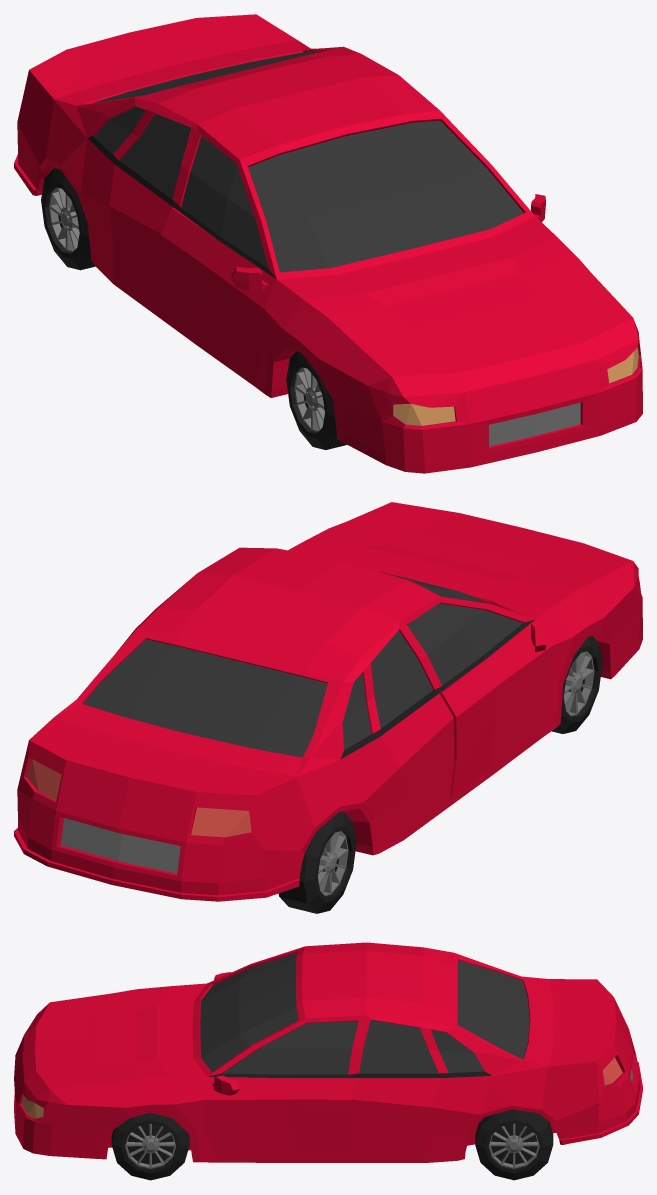
The model's file is red.glb.
3 renders of one model, top to bottom at view 1: azimuth 30°, elevation 25°; view 2: azimuth 150°, elevation 25°; view 3: azimuth 270°, elevation 25°, orthographic. The views are drawn at different scales.
Visible parts, largest first — view 1: NormalCar1, NormalCar1_BackWheels, NormalCar1_FrontRightWheel; view 2: NormalCar1, NormalCar1_BackWheels, NormalCar1_FrontRightWheel; view 3: NormalCar1, NormalCar1_BackWheels, NormalCar1_FrontLeftWheel.
Part boxes in pixels (x1,y1,x2,y2): NormalCar1: (14,14,642,473); NormalCar1_BackWheels: (41,168,95,270); NormalCar1_FrontRightWheel: (286,351,346,449); NormalCar1: (14,502,642,901); NormalCar1_BackWheels: (278,811,356,913); NormalCar1_FrontRightWheel: (551,635,602,733); NormalCar1: (14,942,642,1162); NormalCar1_BackWheels: (475,1109,553,1180); NormalCar1_FrontLeftWheel: (111,1112,189,1180).
Size of the model in its own units: 1.81 by 1.18 by 4.22.
